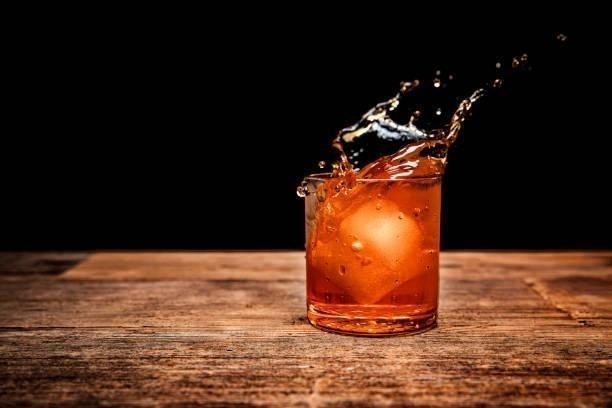glass-normal: (301, 165, 445, 336)
